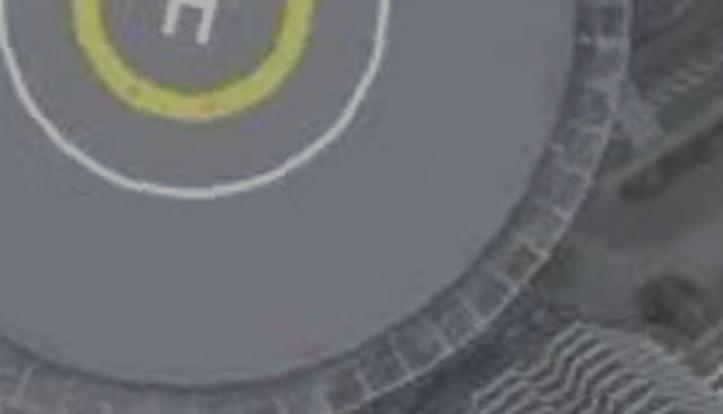Apron: (49, 1, 325, 128)
